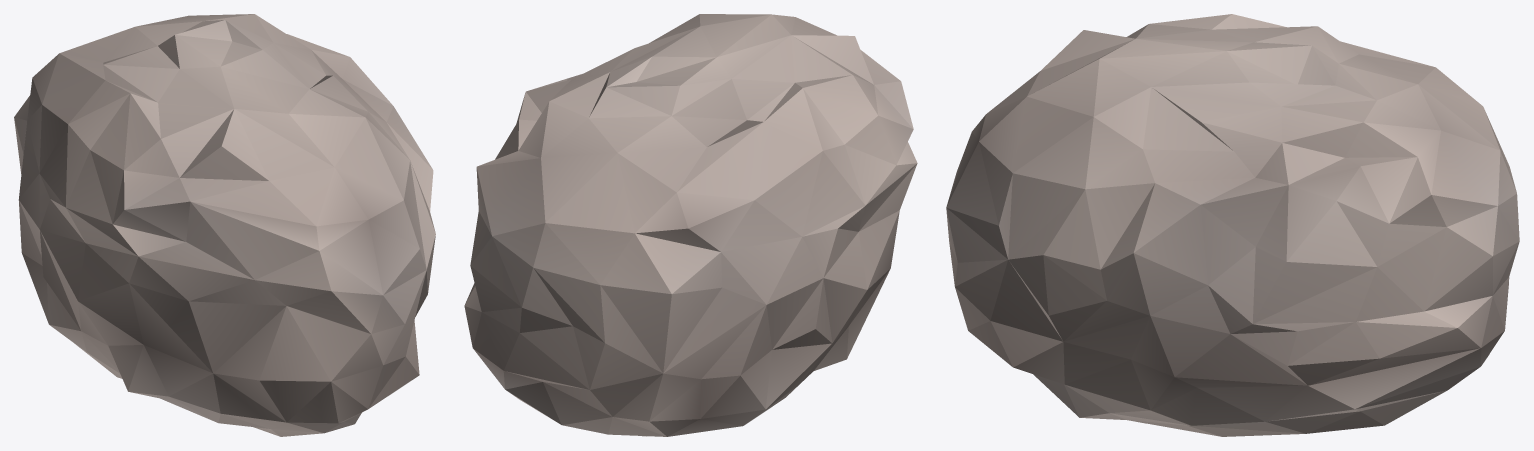
The model's file is asteroids.obj.
3 renders of one model, left to right at view 1: azimuth 30°, elevation 25°; view 2: azimuth 150°, elevation 25°; view 3: azimuth 270°, elevation 25°, orthographic. The views are drawn at different scales.
Parts seen in each view (by area): view 1: wide; view 2: wide; view 3: wide.
Part boxes in pixels (x1,y1,x2,y2): wide: (14, 14, 435, 436); wide: (464, 14, 917, 436); wide: (946, 14, 1519, 436).
Bounding box in the file's own units: 1 × 1.01 × 1.44.
Materials: 1 (1 with a texture image).
